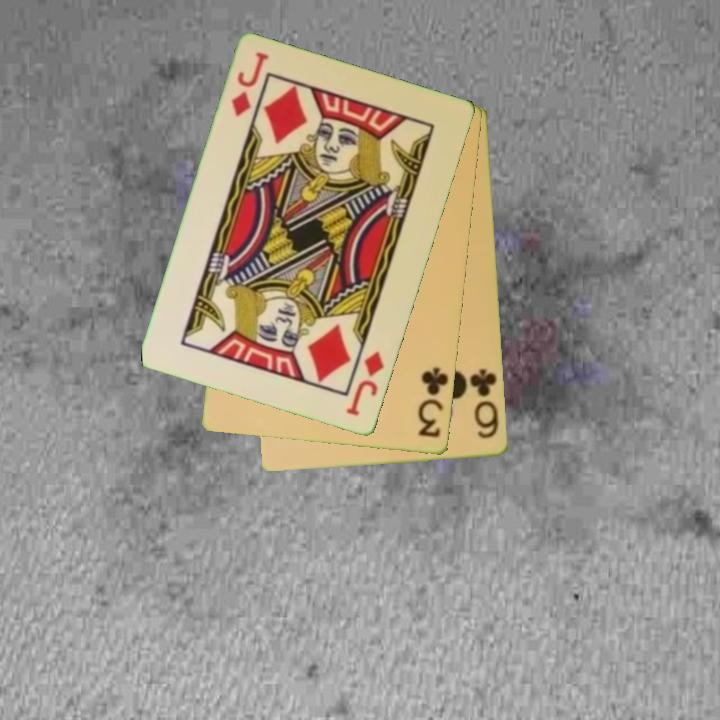3c: (415, 364, 452, 441)
6c: (467, 365, 502, 442)
Jd: (343, 347, 388, 419), (228, 48, 272, 121)
